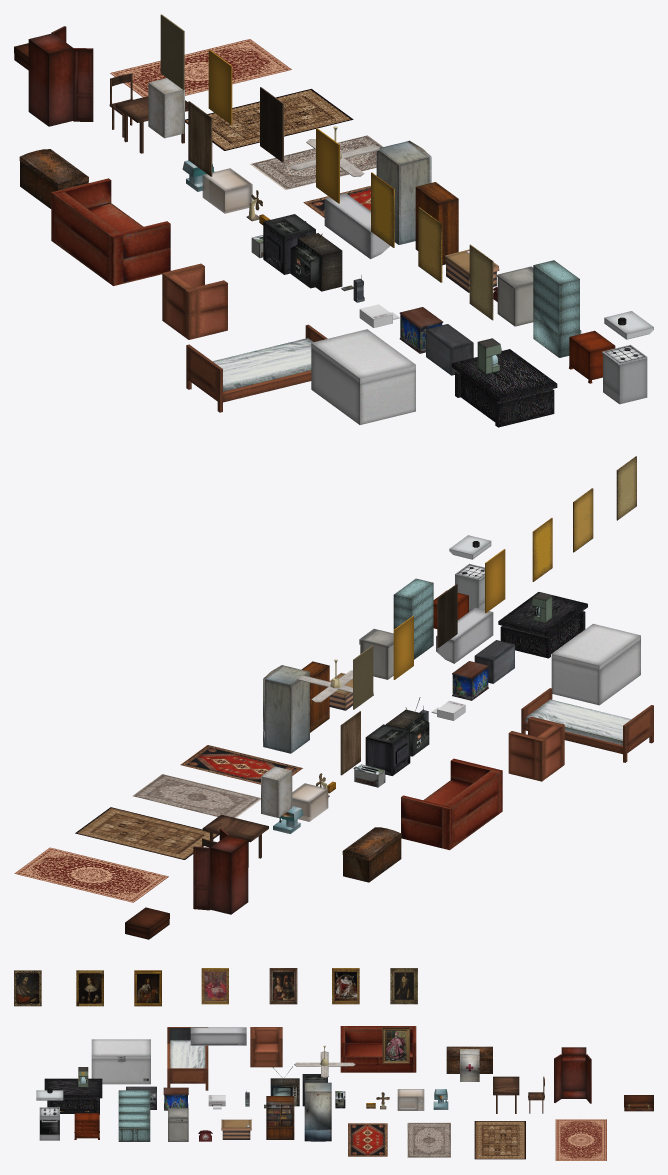
Rendered from PSX - Home Furniture.glb.
3 views of the same model, one above another, from view 1: azimuth 30°, elevation 25°; view 2: azimuth 150°, elevation 25°; view 3: azimuth 270°, elevation 25° (orthographic). The views are drawn at different scales.
Visible parts, largest first — view 1: Double Couch, Bed, Coffe Table, Deep Freezer, Couch, Carpet, Carpet.003, Wooden Wardrobe, Work Shelf Cabinet, Deep Freezer Door, Fridge, TV 1 (+28 smaller); view 2: Double Couch, Bed, Carpet.003, Carpet, Coffe Table, Fridge, Deep Freezer, Carpet.002, Couch, Wooden Wardrobe, Deep Freezer Door, Work Shelf Cabinet (+24 smaller); view 3: Double Couch, Carpet.003, Bed, Carpet, Carpet.002, Coffe Table, Deep Freezer, Carpet.001, Couch, Wooden Wardrobe, Bookshelf, Work Shelf Cabinet (+29 smaller).
Boxes of the visible parts, x1=… form: Double Couch: x1=51, y1=178, x2=170, y2=285; Bed: x1=186, y1=324, x2=327, y2=412; Coffe Table: x1=452, y1=349, x2=557, y2=427; Deep Freezer: x1=311, y1=349, x2=415, y2=424; Couch: x1=162, y1=263, x2=227, y2=339; Carpet: x1=185, y1=89, x2=353, y2=150; Carpet.003: x1=110, y1=39, x2=291, y2=97; Wooden Wardrobe: x1=28, y1=33, x2=73, y2=126; Work Shelf Cabinet: x1=533, y1=260, x2=579, y2=357; Deep Freezer Door: x1=311, y1=329, x2=415, y2=383; Fridge: x1=376, y1=141, x2=429, y2=244; TV 1: x1=290, y1=221, x2=342, y2=291; Double Couch: x1=401, y1=758, x2=502, y2=850; Bed: x1=521, y1=688, x2=653, y2=762; Carpet.003: x1=14, y1=847, x2=168, y2=902; Carpet: x1=75, y1=807, x2=218, y2=859; Coffe Table: x1=498, y1=592, x2=587, y2=658; Fridge: x1=265, y1=665, x2=309, y2=753; Deep Freezer: x1=551, y1=640, x2=640, y2=705; Carpet.002: x1=132, y1=774, x2=260, y2=817; Couch: x1=508, y1=716, x2=564, y2=781; Wooden Wardrobe: x1=210, y1=835, x2=248, y2=914; Deep Freezer Door: x1=551, y1=623, x2=640, y2=670; Work Shelf Cabinet: x1=393, y1=578, x2=433, y2=659; Double Couch: x1=340, y1=1026, x2=416, y2=1072; Carpet.003: x1=555, y1=1119, x2=606, y2=1160; Bed: x1=167, y1=1027, x2=208, y2=1090; Carpet: x1=474, y1=1121, x2=525, y2=1159; Carpet.002: x1=407, y1=1122, x2=450, y2=1157; Coffe Table: x1=44, y1=1078, x2=102, y2=1114; Deep Freezer: x1=91, y1=1059, x2=150, y2=1084; Carpet.001: x1=348, y1=1123, x2=387, y2=1156; Couch: x1=250, y1=1027, x2=282, y2=1067; Wooden Wardrobe: x1=561, y1=1047, x2=586, y2=1098; Bookshelf: x1=266, y1=1096, x2=294, y2=1139; Work Shelf Cabinet: x1=118, y1=1090, x2=150, y2=1141.
Bounding box in the file's own units: 13.93 × 7.25 × 32.42.
27 materials, 27 textured.
